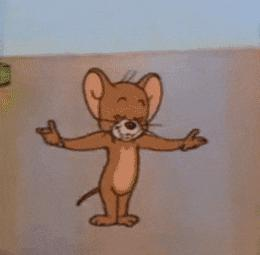jerry: (34, 66, 209, 228)
